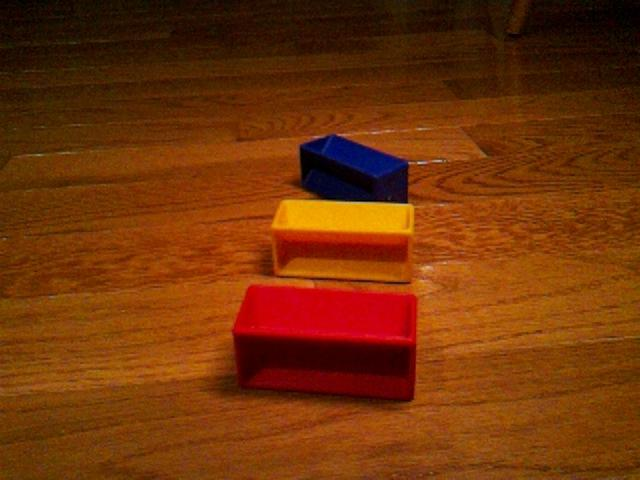blue: (298, 131, 410, 204)
red: (231, 282, 419, 402)
yellow: (270, 198, 416, 283)
